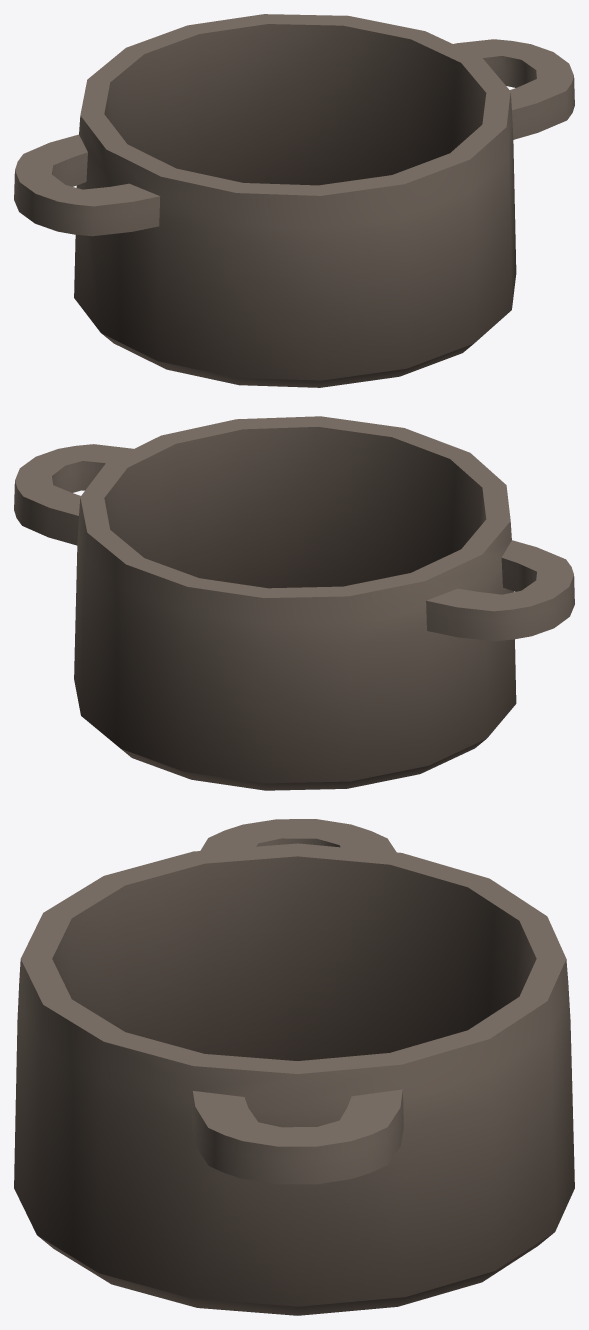
File: obj_CookingPot.fbx
3 views of the same model, one above another, from view 1: azimuth 30°, elevation 25°; view 2: azimuth 150°, elevation 25°; view 3: azimuth 270°, elevation 25° (orthographic). The views are drawn at different scales.
Visible parts, largest first — view 1: obj_CookingPot; view 2: obj_CookingPot; view 3: obj_CookingPot.
Boxes of the visible parts, left/top/right/bottom form: obj_CookingPot: left=14, top=14, right=574, bottom=387; obj_CookingPot: left=14, top=416, right=574, bottom=790; obj_CookingPot: left=14, top=819, right=574, bottom=1315.
Size of the model in its own units: 43.33 by 15.15 by 31.29.
